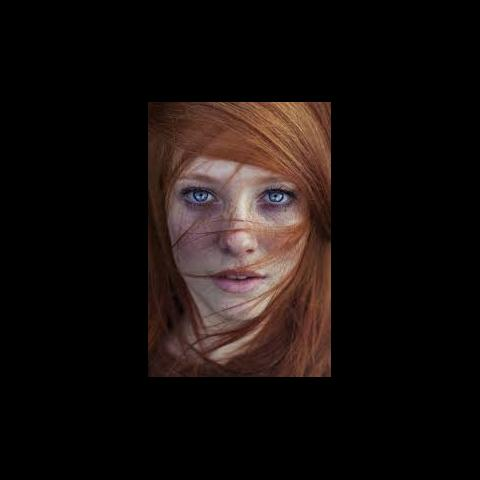opened: (174, 176, 298, 218)
